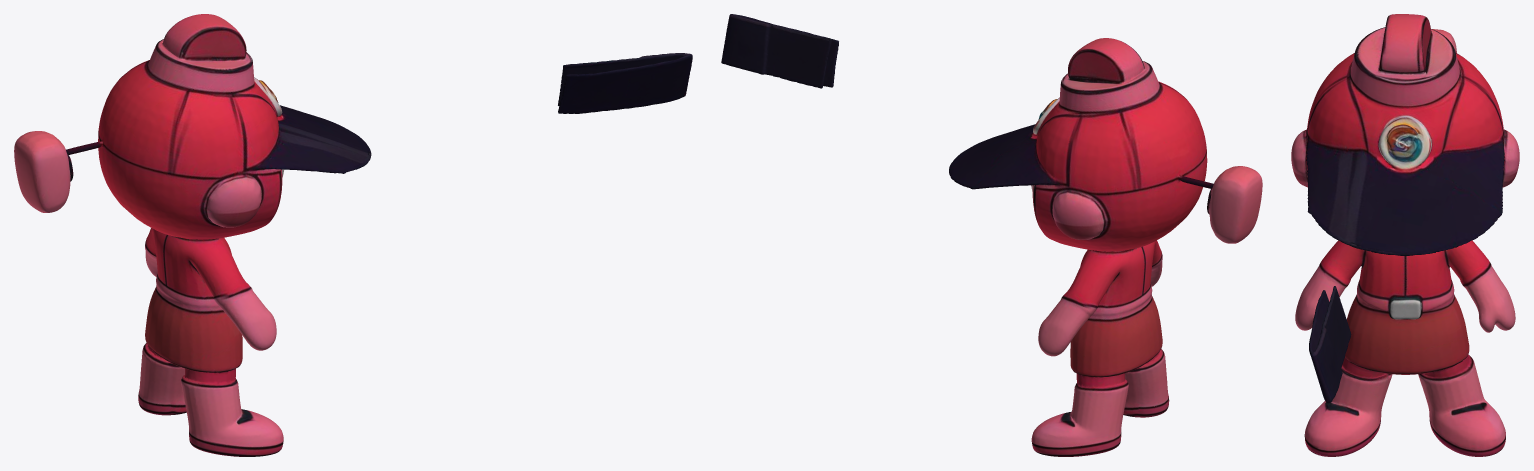
File: RangerPink.glb
3 renders of one model, left to right at view 1: azimuth 30°, elevation 25°; view 2: azimuth 150°, elevation 25°; view 3: azimuth 270°, elevation 25°, orthographic. The views are drawn at different scales.
Visible parts, largest first — view 1: tripo_node_aa834f7d-2bae-4423-a76a-3e2c48922ec8; view 2: tripo_node_aa834f7d-2bae-4423-a76a-3e2c48922ec8; view 3: tripo_node_aa834f7d-2bae-4423-a76a-3e2c48922ec8.
Part boxes in pixels (box(x1,y1,x2,y2)): tripo_node_aa834f7d-2bae-4423-a76a-3e2c48922ec8: box(14, 14, 692, 456); tripo_node_aa834f7d-2bae-4423-a76a-3e2c48922ec8: box(721, 14, 1262, 456); tripo_node_aa834f7d-2bae-4423-a76a-3e2c48922ec8: box(1291, 14, 1519, 456).
Size of the model in its own units: 1 by 0.6371 by 0.3129.
1 material, 1 textured.
